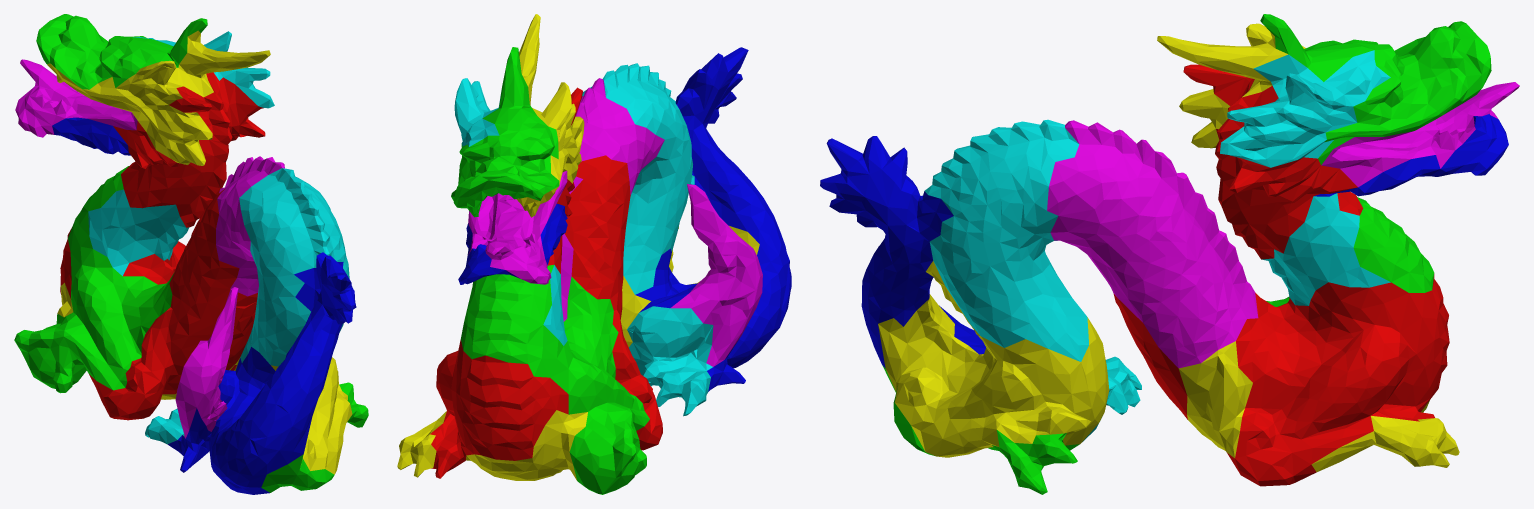
File: Dragon_8K_L1.fbx
3 renders of one model, left to right at view 1: azimuth 30°, elevation 25°; view 2: azimuth 150°, elevation 25°; view 3: azimuth 270°, elevation 25°, orthographic. The views are drawn at different scales.
Bounding box in the file's own units: 0.4487 × 0.7037 × 0.9996.
